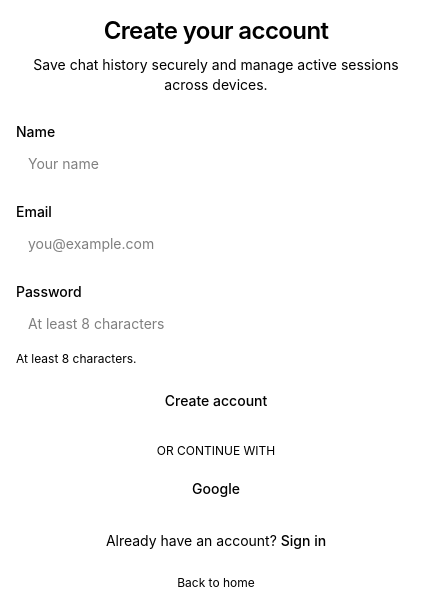
it: SignInForm Two-Factor challenge › preserves the safe research return path through signup and verification resend: /research
The width and height of the screenshot is (433, 604).
Expected: the heading "Create your account" is shown, x1=104 y1=16 x2=328 y2=45
Step 1. Type "Visitor" into the field labelled "Name" → coordinates (216, 163), box x1=16 y1=143 x2=416 y2=183
Step 2. Type "visitor@example.com" into the field labelled "Email" → coordinates (216, 243), box x1=16 y1=223 x2=416 y2=263
Step 3. Type "correct horse battery staple" into the password field labelled "Password" → coordinates (216, 323), box x1=16 y1=303 x2=416 y2=343
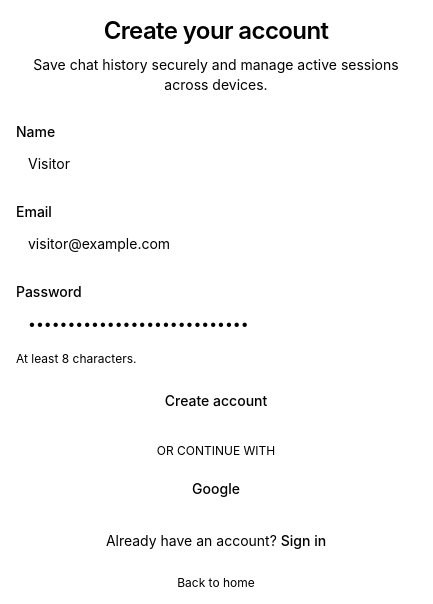
Step 4. Click the button "Create account" → coordinates (216, 401), box x1=16 y1=383 x2=416 y2=419
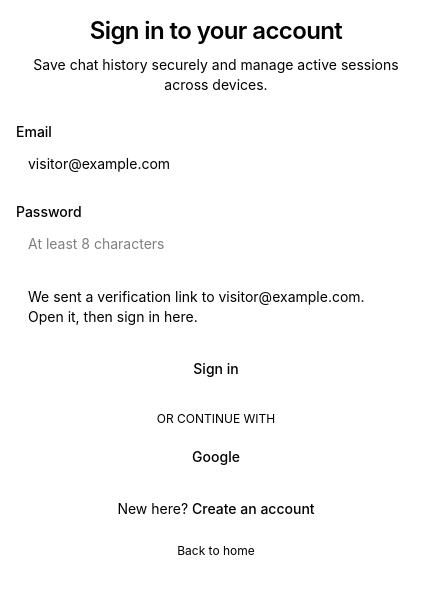
Now the message shows "verification link", box x1=28 y1=288 x2=365 y2=325
Step 5. Replace the text in the field labelled "Email" with "admin@example.com" → coordinates (216, 163), box x1=16 y1=143 x2=416 y2=183
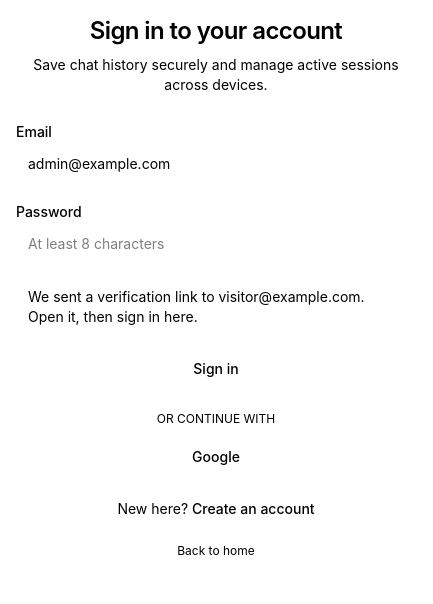
Step 6. Type "correct horse battery staple" into the password field labelled "Password" → coordinates (216, 243), box x1=16 y1=223 x2=416 y2=263
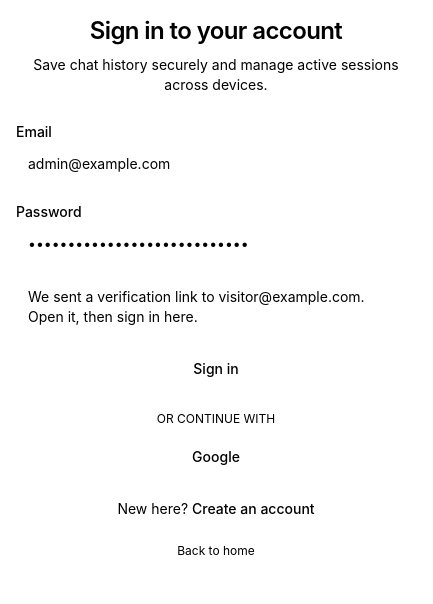
Step 7. Click the button "Sign in" → coordinates (216, 369), box x1=16 y1=351 x2=416 y2=387
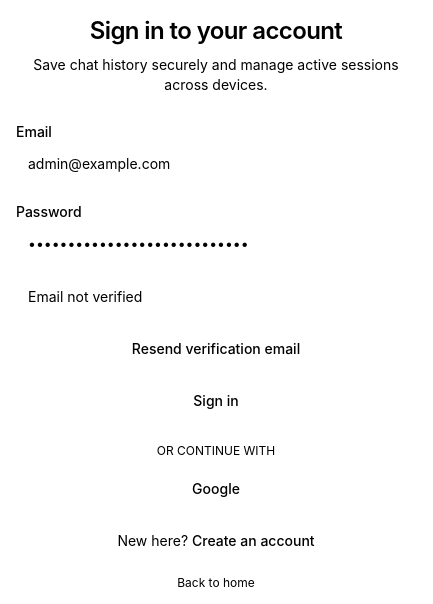
Step 8. Click the button "Resend verification email" → coordinates (216, 349), box x1=16 y1=331 x2=416 y2=367
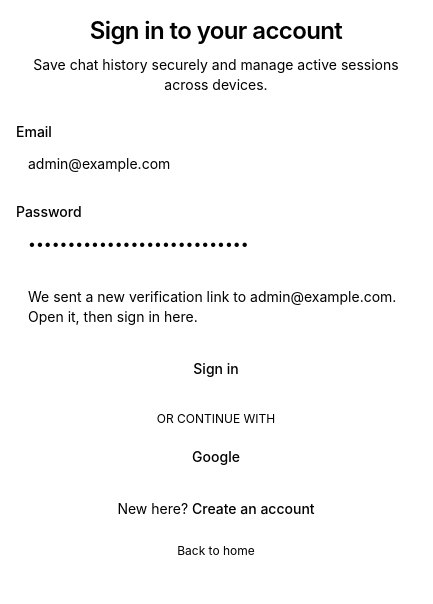
Now the message shows "new verification link", box x1=28 y1=288 x2=396 y2=325
